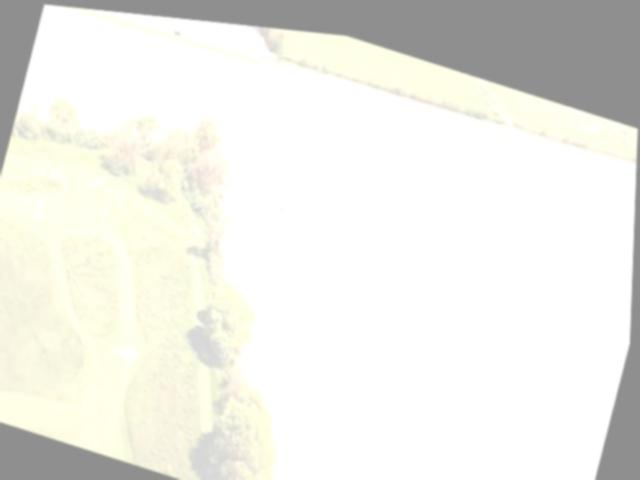iha: (231, 176, 334, 246)
